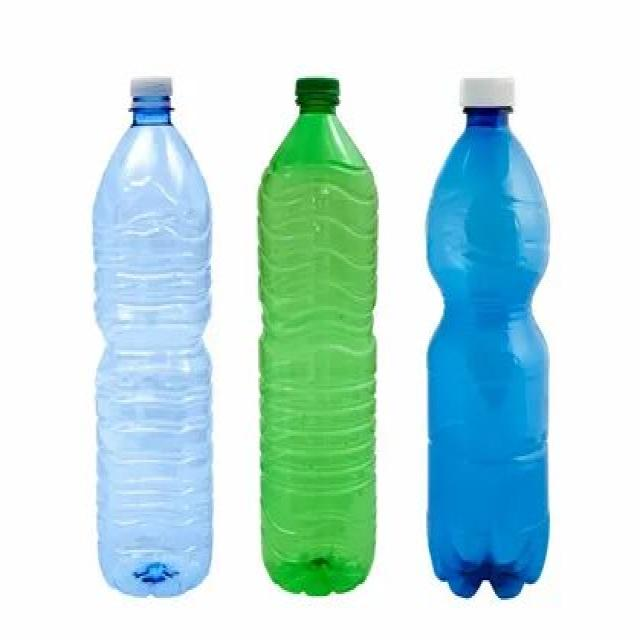blue: (90, 95, 214, 593)
green: (255, 95, 374, 593)
